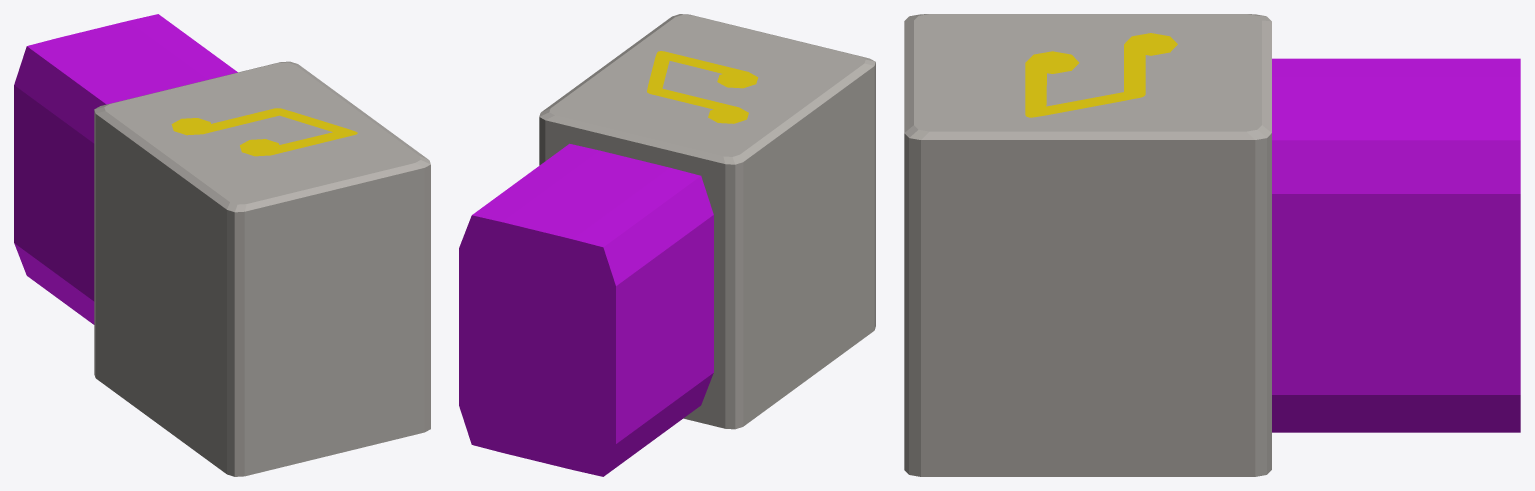
The model's file is nella_platform_trap2.fbx.
3 views of the same model, side by side, from view 1: azimuth 30°, elevation 25°; view 2: azimuth 150°, elevation 25°; view 3: azimuth 270°, elevation 25° (orthographic). The views are drawn at different scales.
Parts seen in each view (by area): view 1: nella_platform.002; view 2: nella_platform.002; view 3: nella_platform.002.
Boxes of the visible parts, x1,y1,x2,y2 form: nella_platform.002: (14,14,430,476); nella_platform.002: (459,14,875,476); nella_platform.002: (904,14,1520,476).
Size of the model in its own units: 9.22 by 11.66 by 19.08.
